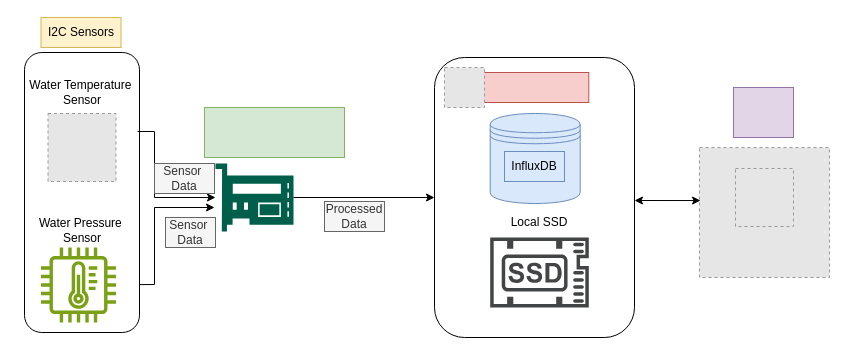
This 847x355 diagram has some shape labels left out. Grey dashed boxes stand in for pictures. Each missing label, with the centre of its shape:
"ESP32 Microcontroller" belongs at (274,132).
"Multi-touch dashboard" belongs at (763,112).
"Rapberry PI 5" belongs at (528,87).
